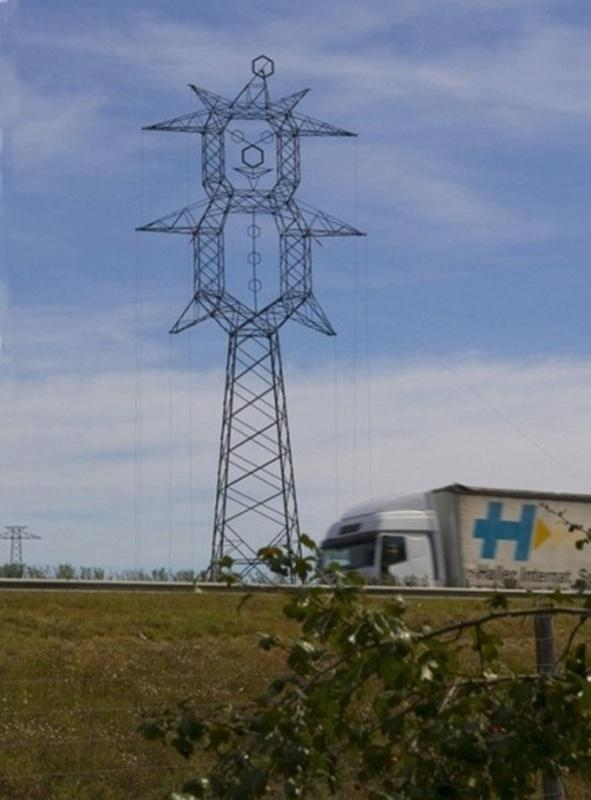power_tower: (132, 52, 366, 586)
